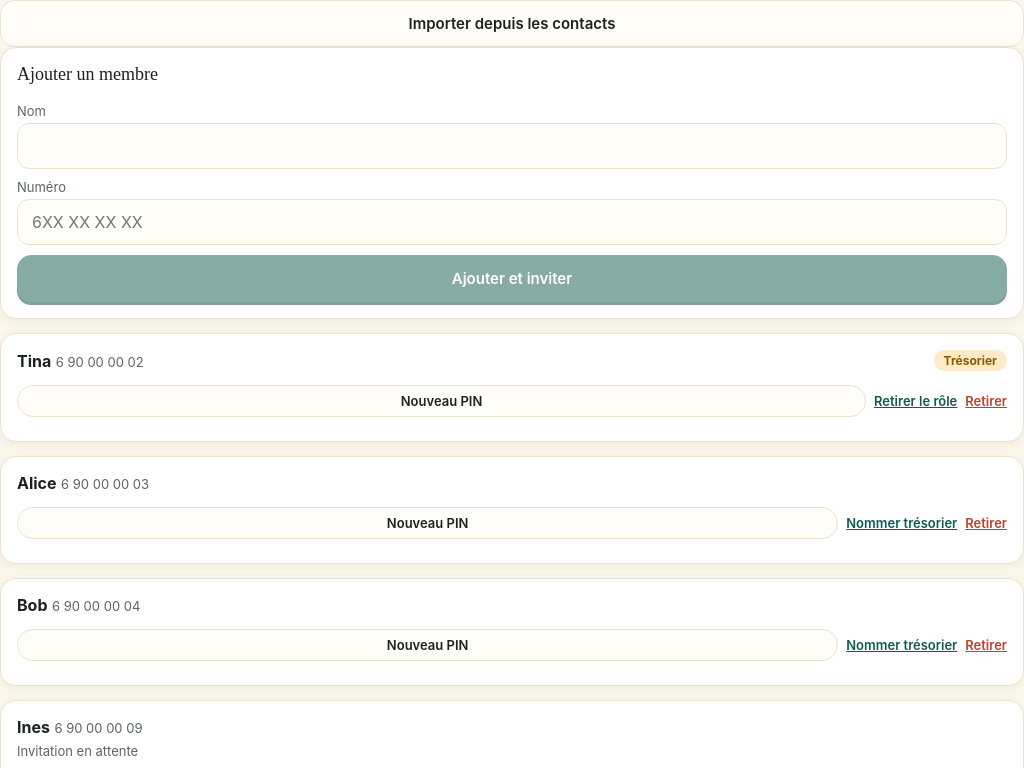
Scenario: import depuis les contacts › un ajout refusé par la base n'arrête pas les suivants
Click the button "Importer depuis les contacts": click(512, 24) left=0, top=0, right=1023, bottom=47
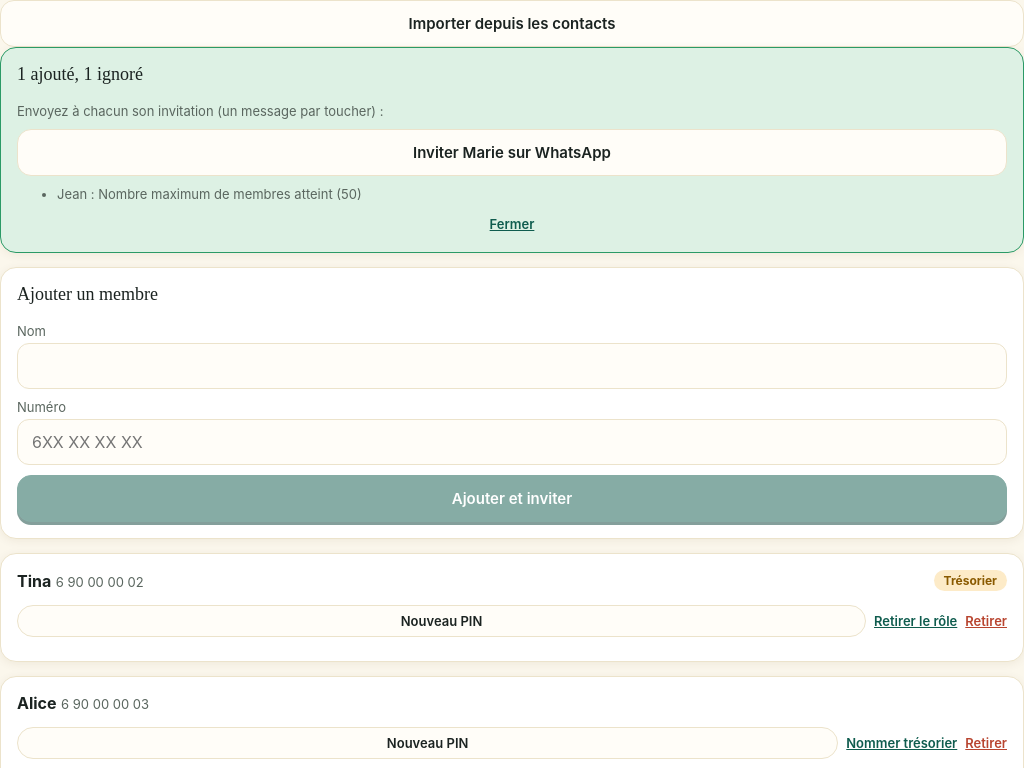
Result: the element named "Import des contacts" shows "1 ajouté" at left=17, top=64, right=74, bottom=84
Result: the element named "Import des contacts" shows "Jean : Nombre maximum de membres atteint (50)" at left=0, top=47, right=1023, bottom=253
